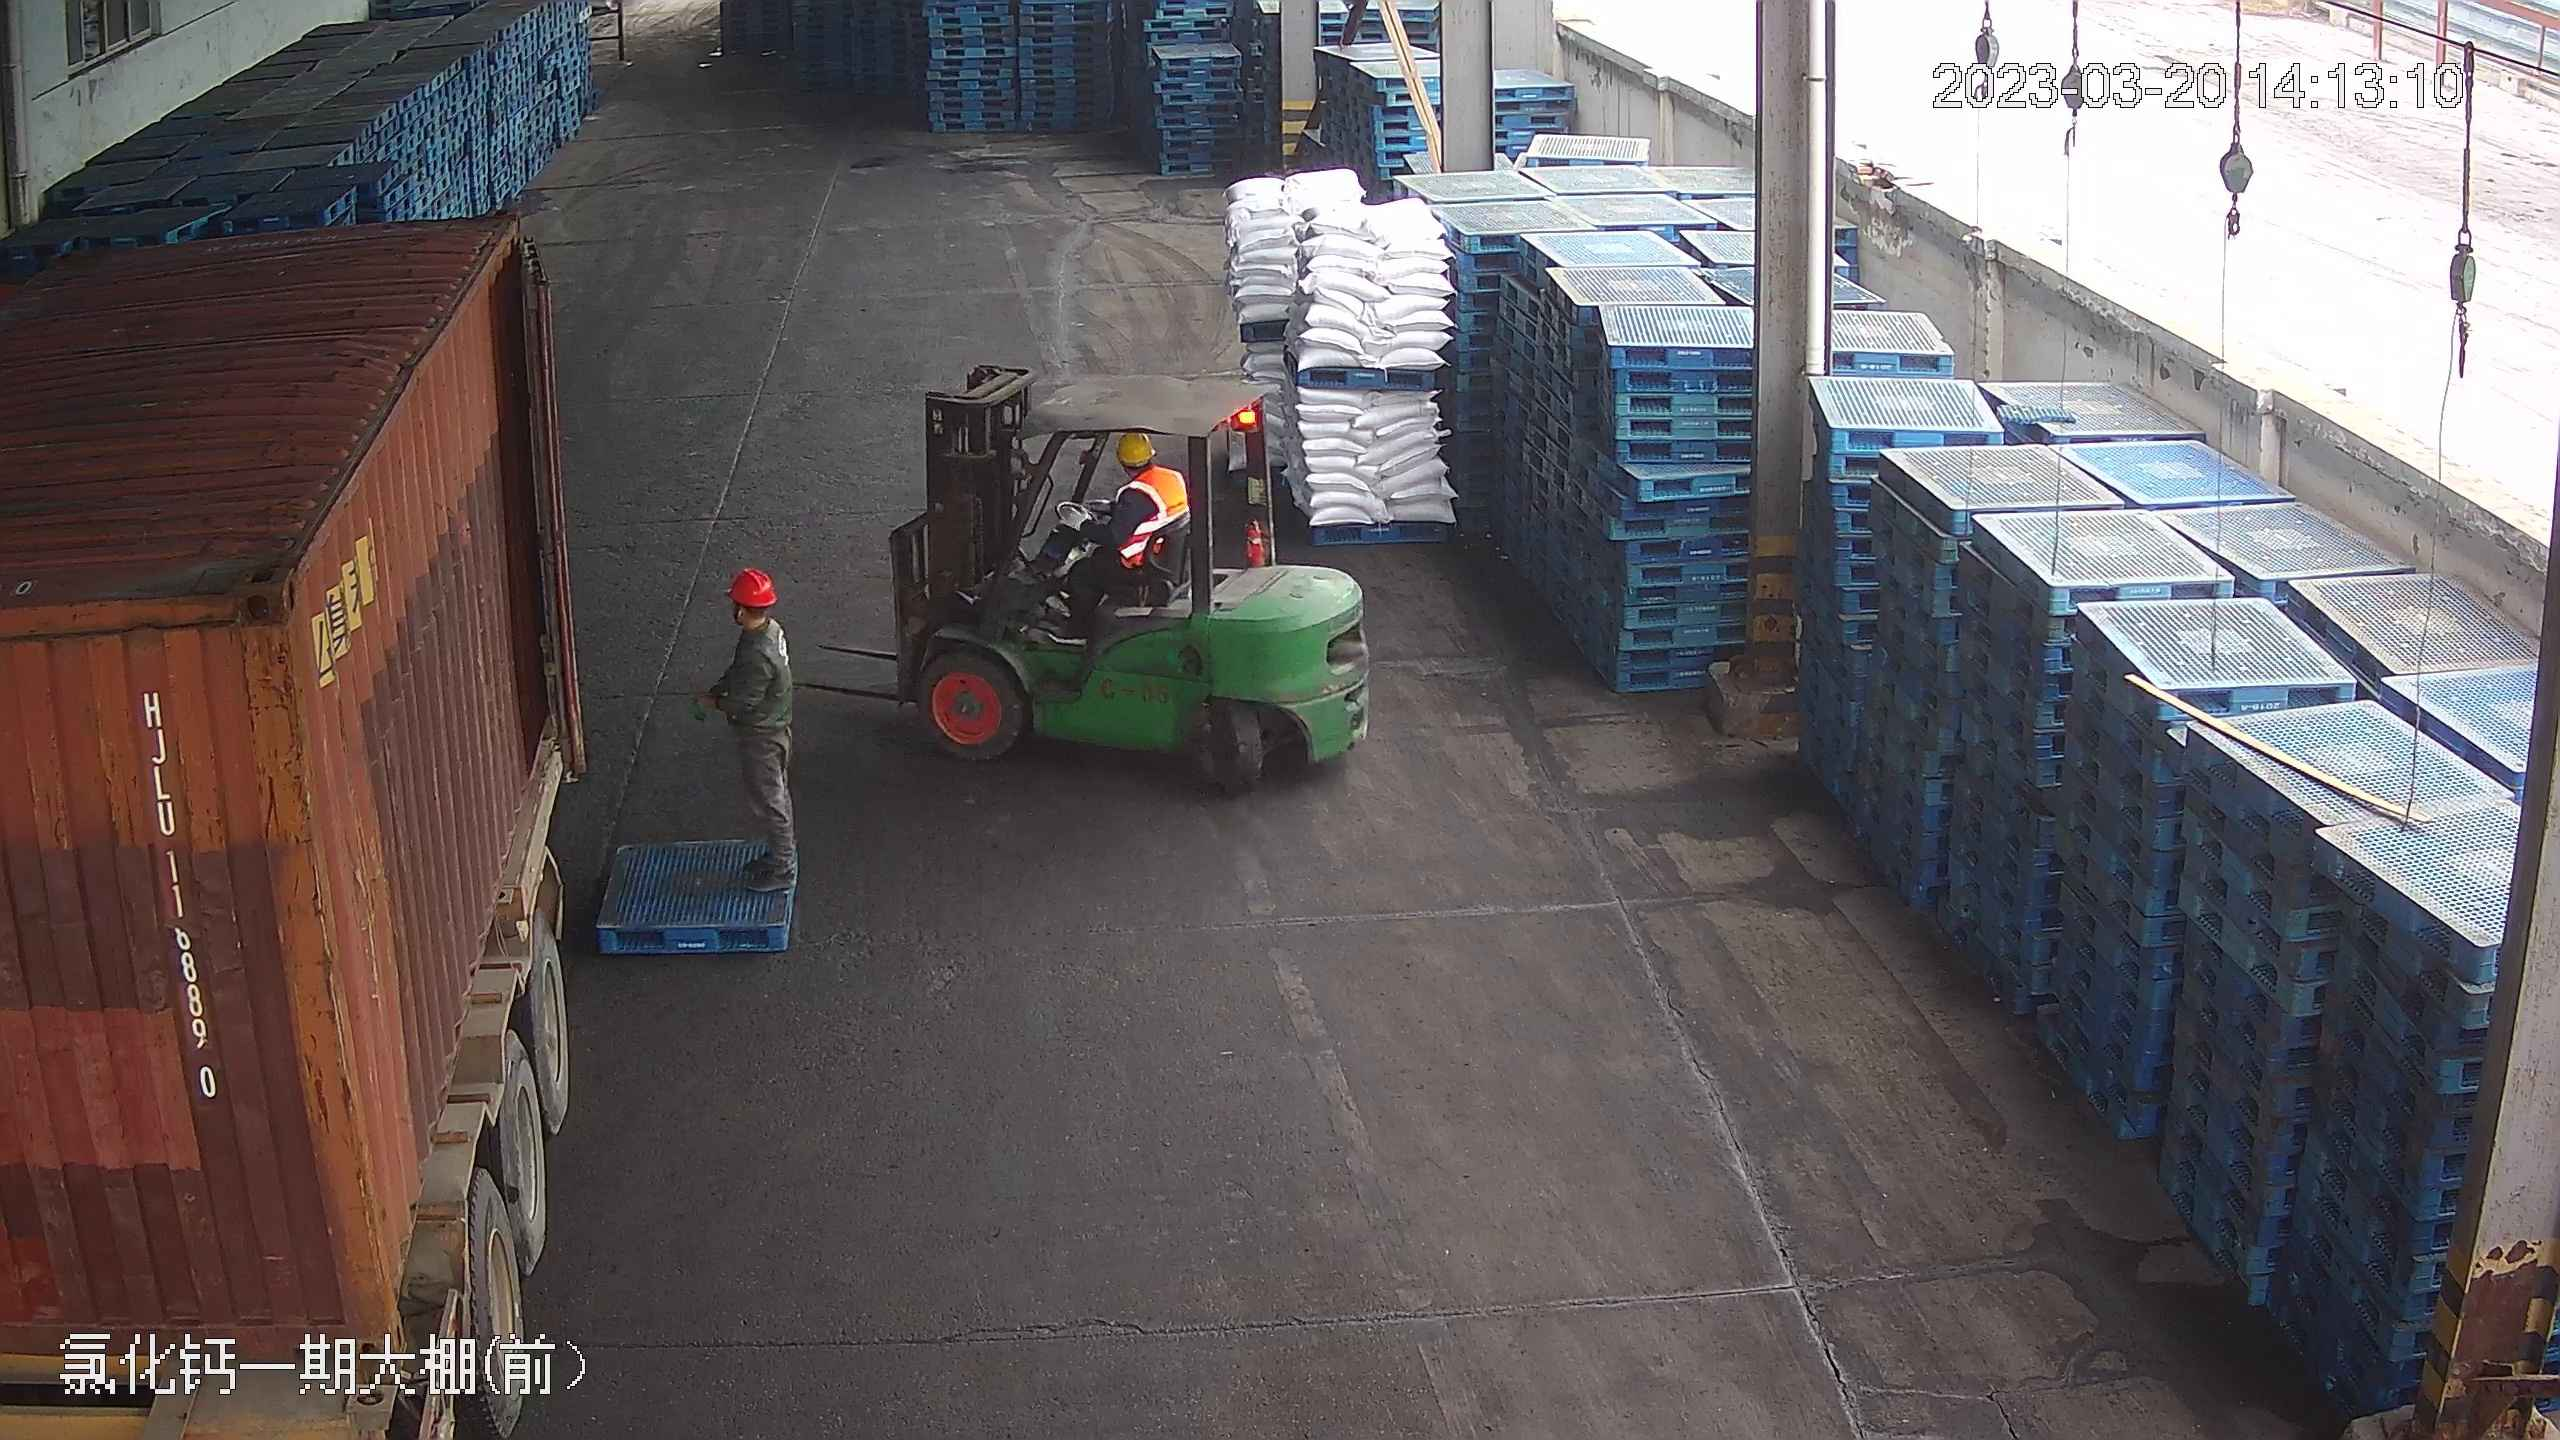head: (713, 569, 796, 671), (1091, 430, 1181, 524)
helmet: (723, 564, 778, 607), (1113, 431, 1151, 460)
people: (691, 567, 801, 884), (1031, 428, 1180, 628)
truck: (1, 185, 630, 1410)
